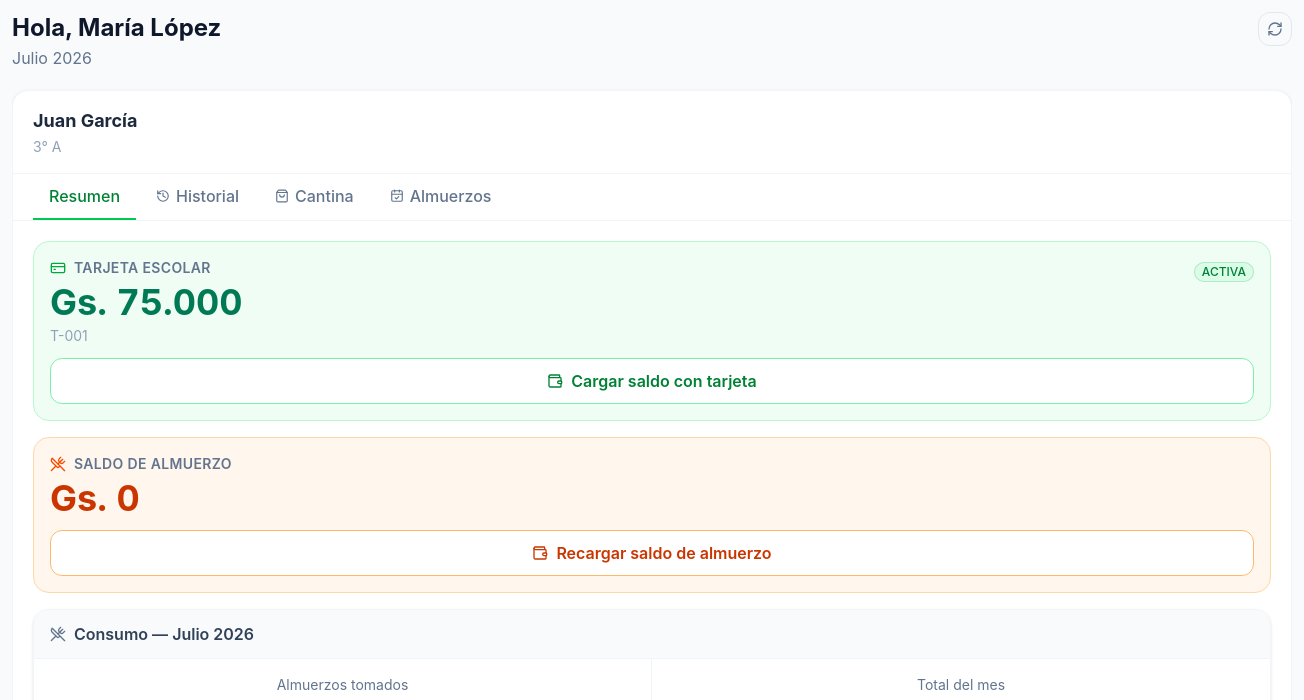
Test: PortalDashboard — tabs › tab Almuerzos → muestra la hora exacta del ingreso al comedor
Expected: the text "Juan García" is shown, [33,110,137,131]
Click the tab "Almuerzos" at (441, 197), box [374,174,508,220]
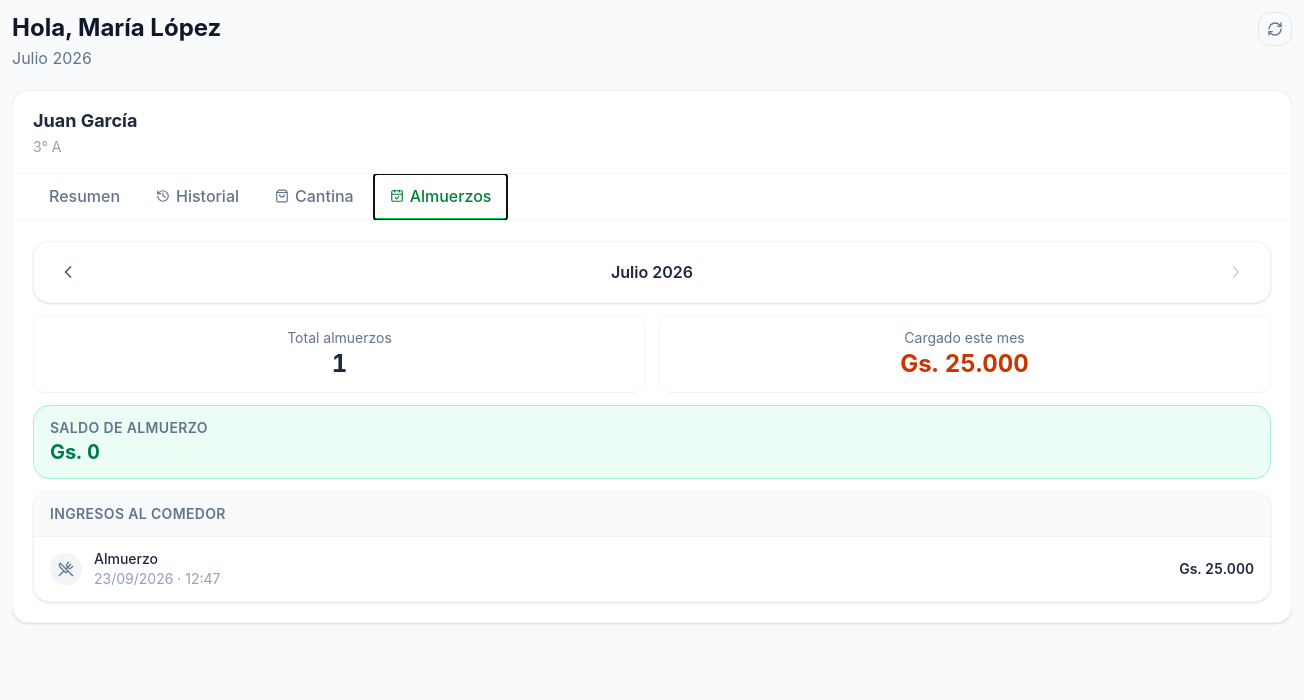
Expected: the text "23/09/2026 · 12:47" is shown, [94,569,220,589]
